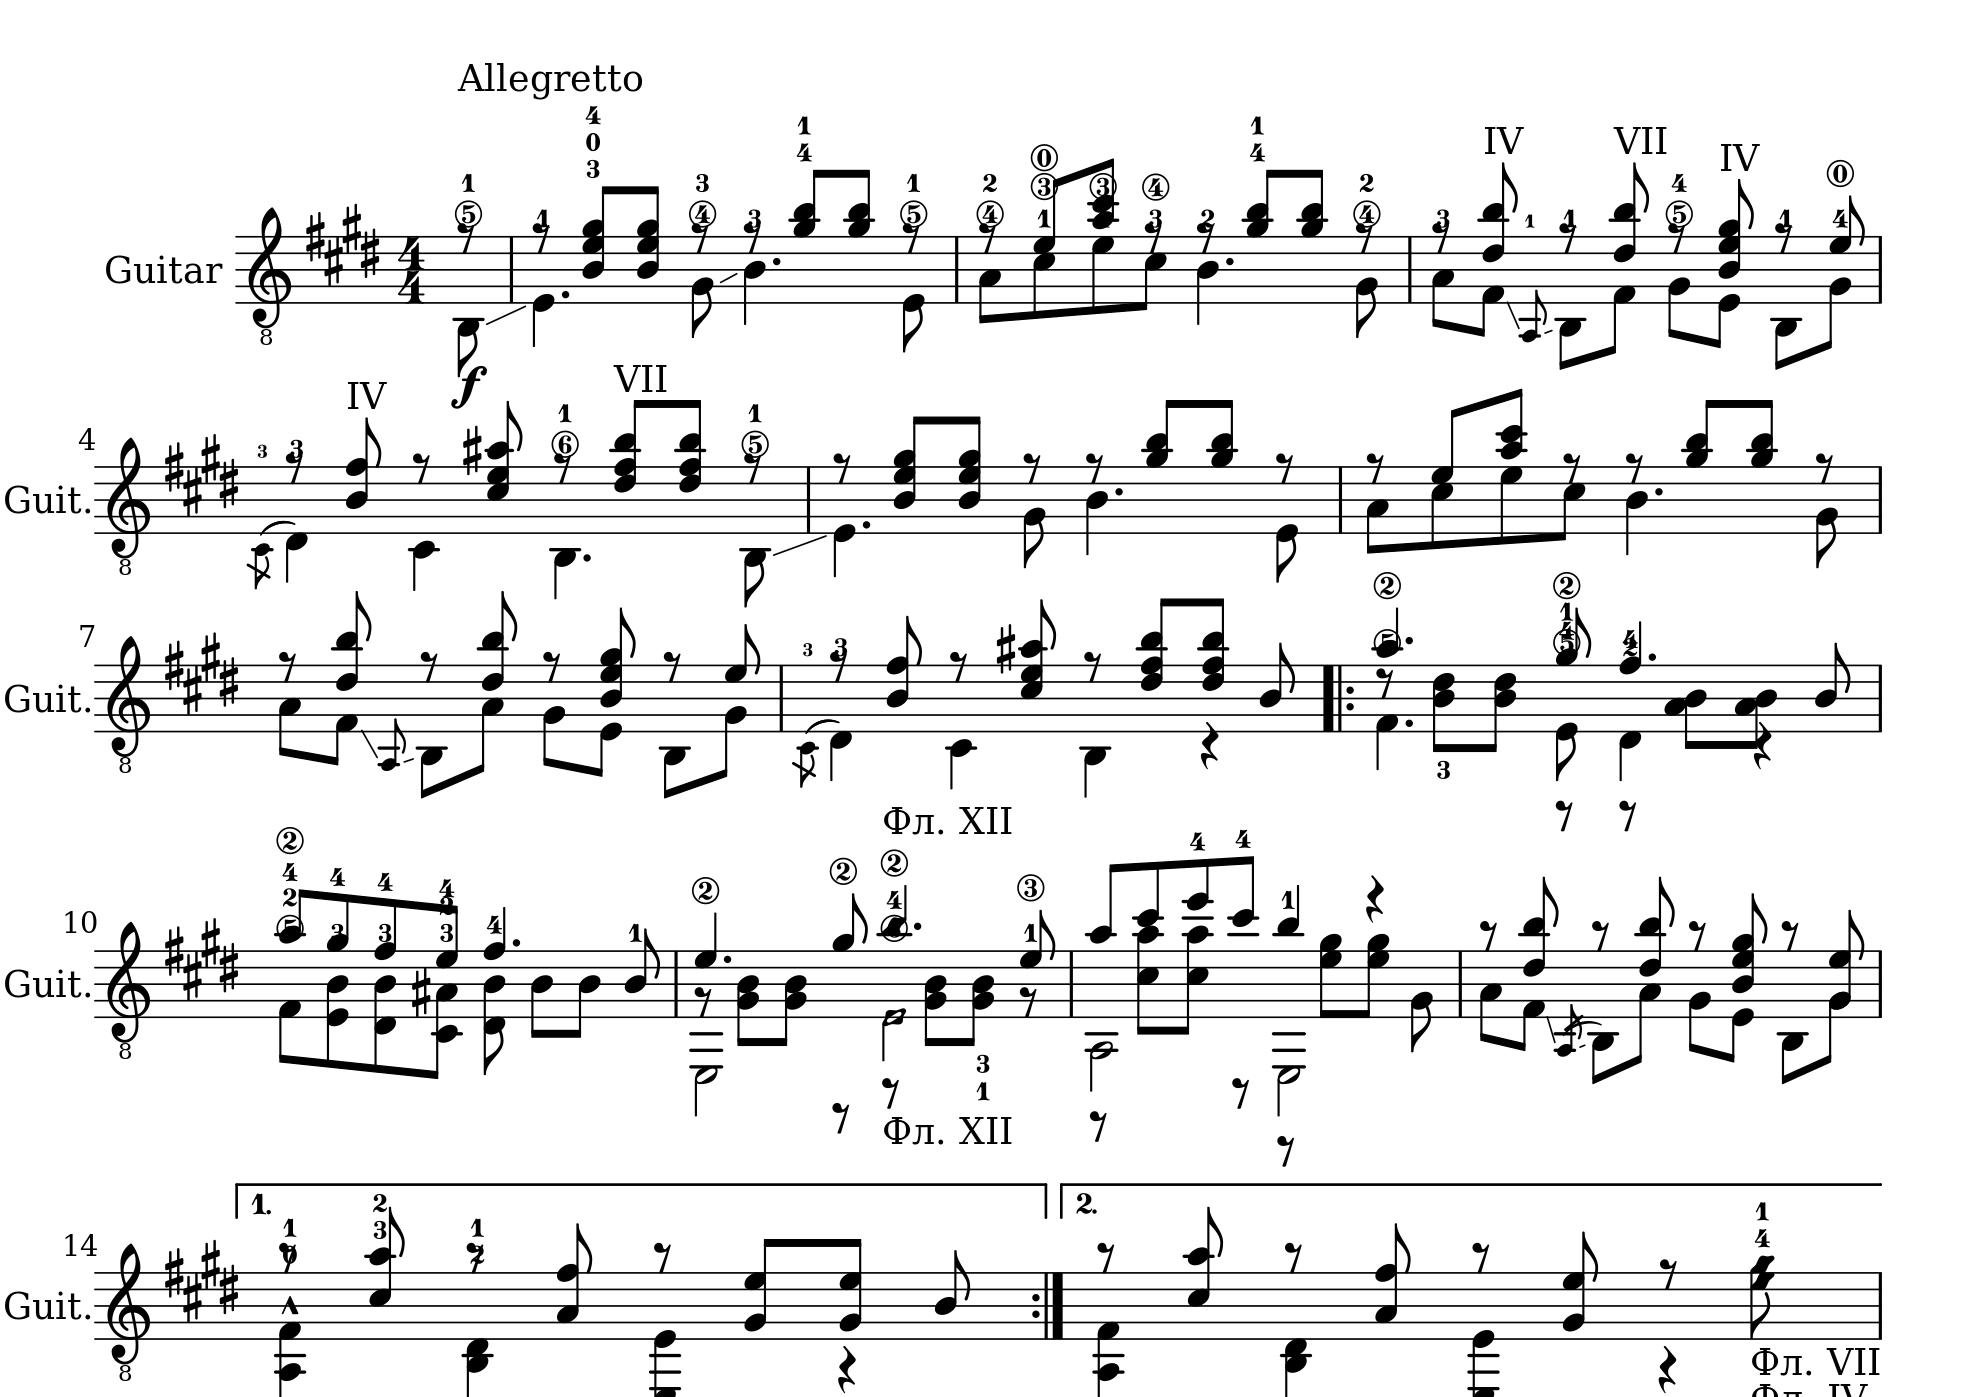0: (80, 906, 98, 937)
1: (1249, 113, 1265, 138), (797, 113, 812, 138)
2_-4: (1086, 946, 1116, 1087)
3: (584, 156, 602, 178), (1435, 757, 1453, 780), (694, 171, 711, 194), (975, 1052, 990, 1073), (256, 441, 269, 458), (801, 640, 813, 658)
4: (396, 233, 426, 271), (396, 269, 426, 302), (584, 103, 603, 125), (437, 875, 455, 900), (330, 865, 348, 887), (376, 869, 395, 892), (797, 139, 813, 163), (1754, 1197, 1770, 1222), (281, 860, 299, 881), (1249, 139, 1265, 162), (1234, 825, 1250, 848)
4_-1: (284, 464, 310, 587)
4_-2: (408, 464, 441, 594), (948, 665, 974, 791)
4_-3: (550, 464, 581, 602), (1079, 664, 1108, 798)
4_0: (531, 236, 555, 349), (832, 464, 854, 579)
4_4: (742, 218, 767, 328), (1084, 463, 1110, 556), (1624, 463, 1649, 556), (1194, 234, 1219, 330)
7: (79, 621, 95, 649)
8_-3: (1587, 946, 1618, 1086), (1776, 949, 1807, 1086), (741, 464, 770, 606), (1770, 236, 1801, 369), (416, 668, 446, 800), (661, 667, 689, 800), (1556, 234, 1583, 370)
8_-4: (376, 667, 410, 774)
8_0: (1554, 662, 1578, 785), (1274, 464, 1299, 584), (901, 236, 925, 352)
8_1: (277, 946, 302, 1067)
8_10: (1086, 860, 1123, 1018)
8_12: (1228, 856, 1259, 1022)
8_2: (1408, 948, 1435, 1052), (1021, 466, 1048, 568), (1687, 948, 1711, 1055), (541, 664, 565, 770), (689, 234, 714, 339), (1353, 234, 1377, 339), (1814, 466, 1838, 568), (1668, 234, 1690, 342)
8_2_4: (773, 949, 807, 1049), (963, 949, 998, 1048), (924, 948, 949, 1049), (735, 948, 760, 1048)
8_2_7: (1562, 1231, 1600, 1343), (744, 1237, 779, 1343), (838, 1238, 863, 1343)
8_3: (277, 661, 302, 759), (1479, 949, 1503, 1048), (977, 234, 1002, 327), (1430, 234, 1454, 331), (1365, 466, 1389, 556)
8_3_4: (1665, 664, 1708, 748), (1733, 664, 1776, 748)
8_3_8: (556, 1222, 594, 1341), (1374, 1222, 1412, 1340)
8_4: (933, 1249, 971, 1341), (1258, 641, 1294, 733), (1814, 641, 1851, 733), (624, 928, 659, 1021), (568, 948, 602, 1039), (531, 948, 553, 1040)
8_4_6: (1485, 664, 1521, 754), (1432, 662, 1459, 756)
8_4_8: (884, 615, 924, 733)
8_5: (1554, 463, 1586, 543), (1137, 233, 1166, 314)
8_5_10: (364, 1206, 407, 1343), (1182, 1203, 1223, 1343)
8_7: (1498, 464, 1524, 544), (1090, 233, 1114, 316)
8_7_9: (1358, 933, 1392, 1019), (1318, 934, 1346, 1021)
8_9_11: (1143, 398, 1182, 537), (1681, 399, 1720, 537), (788, 169, 827, 304), (1240, 169, 1279, 302), (1203, 398, 1240, 537), (1296, 168, 1330, 305), (1746, 398, 1779, 537), (844, 169, 875, 305)
8_th: (612, 395, 652, 535), (1137, 597, 1178, 732), (1717, 178, 1758, 305), (485, 398, 520, 535), (894, 414, 933, 534), (581, 184, 618, 304), (1197, 599, 1229, 739), (676, 395, 705, 537), (636, 184, 664, 302), (959, 414, 983, 535)
9: (584, 129, 602, 153)
Acciaccature: (246, 522, 277, 590)
B_S: (162, 1238, 240, 1321)
E_S: (162, 916, 242, 1001), (162, 630, 240, 717), (162, 434, 240, 517), (301, 204, 383, 283)
Guit: (2, 476, 85, 522), (2, 677, 85, 720), (2, 963, 85, 1005), (2, 1285, 85, 1326), (101, 249, 184, 287)
LeftRepeatSign: (1320, 664, 1358, 730)
Lower_Gclef: (104, 434, 153, 576), (104, 633, 153, 774), (104, 919, 151, 1061), (104, 1241, 151, 1383), (246, 206, 293, 346)
Marcato_above: (280, 1293, 299, 1315)
Prima_volta: (231, 1182, 1057, 1222)
Rests4: (835, 1343, 859, 1395), (1655, 1344, 1680, 1395), (1197, 721, 1222, 771), (1364, 872, 1386, 924), (1751, 723, 1773, 773)
Rests8: (550, 448, 576, 484), (741, 448, 767, 482), (1229, 1073, 1252, 1111), (1553, 797, 1575, 833), (828, 1099, 851, 1135), (1087, 1107, 1110, 1143), (1589, 918, 1612, 952), (1274, 1132, 1297, 1167), (1282, 1238, 1305, 1273), (1470, 1238, 1492, 1273), (455, 219, 478, 252), (410, 451, 432, 484), (417, 647, 440, 680), (661, 649, 683, 682), (878, 1075, 901, 1108), (1095, 1240, 1117, 1273), (1618, 797, 1639, 832), (1687, 918, 1708, 952), (1779, 918, 1801, 952), (652, 1238, 673, 1273), (1657, 1256, 1678, 1291), (1666, 221, 1689, 252), (832, 449, 853, 482), (1021, 449, 1042, 482), (1274, 449, 1296, 482), (1365, 449, 1386, 482), (1814, 449, 1835, 482), (541, 649, 562, 682), (948, 649, 969, 682), (1082, 649, 1104, 682), (1374, 665, 1395, 698), (692, 984, 714, 1018), (1017, 984, 1039, 1018), (1477, 918, 1498, 951), (277, 649, 298, 680), (1084, 449, 1104, 481), (1624, 449, 1643, 481), (901, 222, 921, 252), (1355, 222, 1374, 252), (1562, 451, 1581, 479), (691, 225, 711, 252), (980, 222, 996, 251)
RightRepeatSign: (1030, 1272, 1066, 1340)
Seconda_volta: (1057, 1179, 1884, 1219)
Sharp: (460, 423, 484, 479), (993, 621, 1017, 677), (410, 966, 432, 1019)
Single_barline: (1872, 466, 1888, 532), (1872, 664, 1888, 730), (1872, 949, 1888, 1016), (1332, 467, 1349, 531), (773, 665, 789, 729), (1401, 234, 1417, 301), (949, 234, 965, 299), (503, 236, 519, 301), (668, 949, 683, 1014), (801, 467, 816, 531), (1453, 951, 1468, 1014), (1873, 236, 1887, 302), (1064, 951, 1078, 1014), (1872, 1273, 1885, 1337)
Slur: (259, 519, 296, 534), (804, 717, 841, 732), (1578, 1018, 1604, 1027), (277, 912, 298, 922)
TimeSig: (396, 234, 426, 304)
dot: (1222, 252, 1237, 268), (1651, 482, 1666, 497), (859, 516, 874, 531), (770, 252, 783, 268), (1401, 717, 1417, 730), (1113, 484, 1126, 497), (1645, 650, 1659, 664), (558, 287, 571, 299), (581, 550, 593, 564), (1405, 633, 1417, 647), (912, 919, 924, 933), (509, 936, 523, 948), (720, 952, 733, 965)
f: (449, 363, 490, 410)
